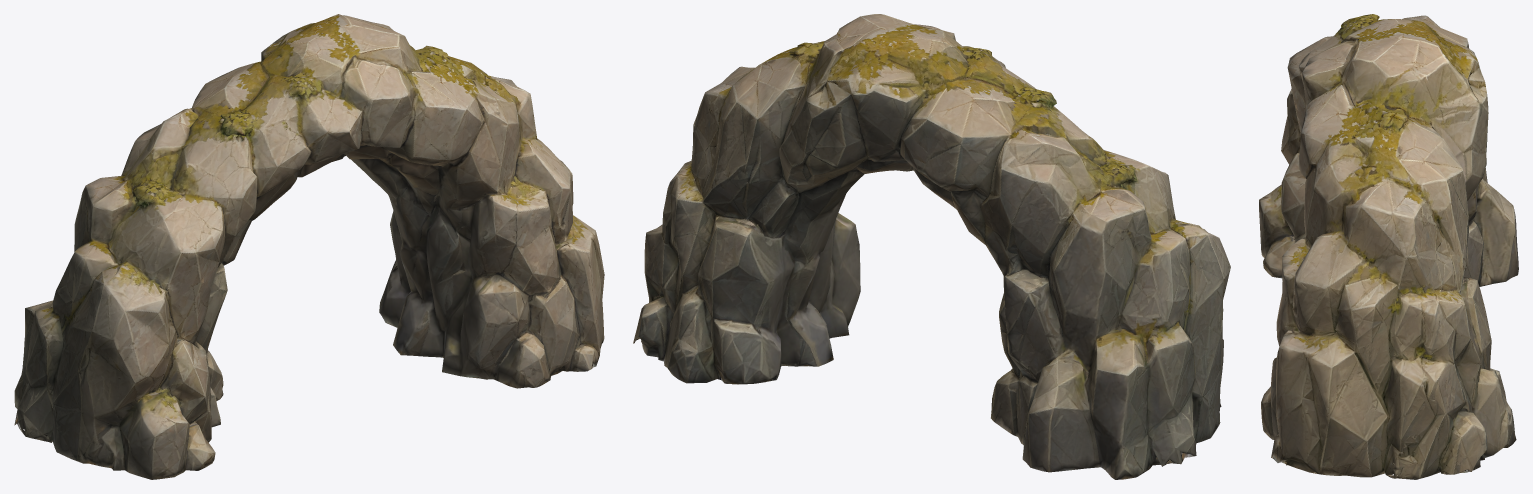
The model's file is P05_CaveEntrance.glb.
3 views of the same model, side by side, from view 1: azimuth 30°, elevation 25°; view 2: azimuth 150°, elevation 25°; view 3: azimuth 270°, elevation 25° (orthographic). The views are drawn at different scales.
Parts seen in each view (by area): view 1: texture_mapping; view 2: texture_mapping; view 3: texture_mapping.
Part boxes in pixels (x1,y1,x2,y2): texture_mapping: (14, 14, 604, 479); texture_mapping: (633, 14, 1230, 479); texture_mapping: (1259, 14, 1518, 479).
Size of the model in its own units: 0.9995 by 0.6077 by 0.4235.
Materials: 1 (1 with a texture image).
